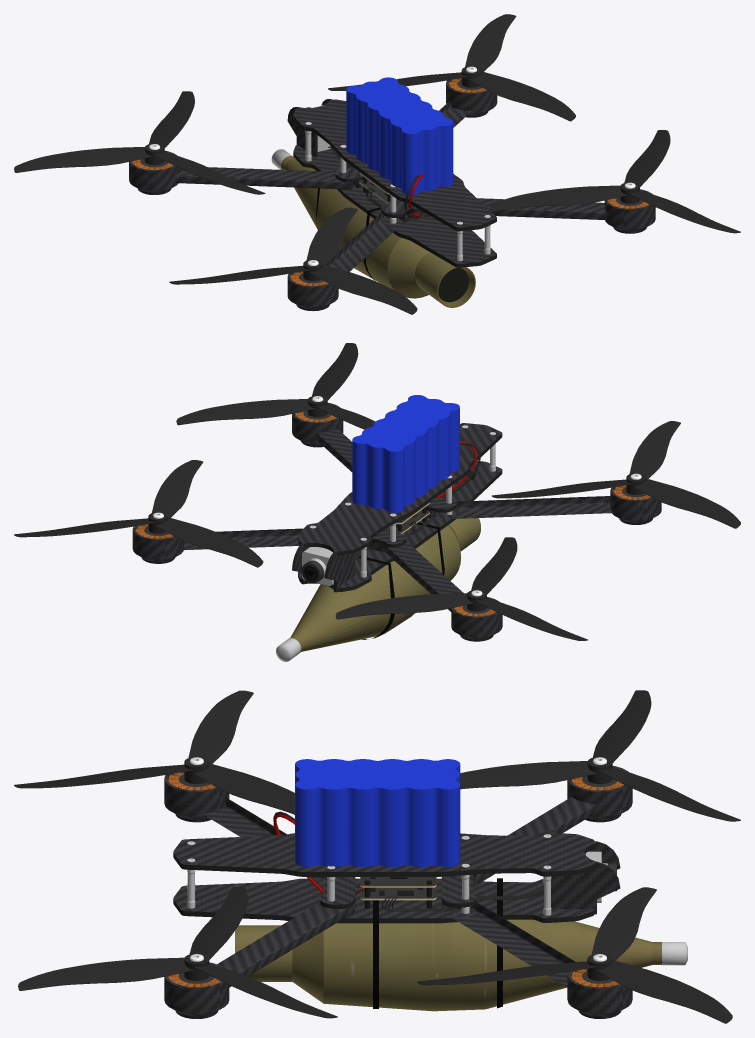
The model's file is fpv_drone.glb.
3 renders of one model, top to bottom at view 1: azimuth 30°, elevation 25°; view 2: azimuth 150°, elevation 25°; view 3: azimuth 270°, elevation 25°, orthographic. The views are drawn at different scales.
Parts seen in each view (by area): view 1: object 4, object 2, object 6, object 10, object 9, object 7, object 8, Object_Material.003_0, object 5; view 2: object 4, object 2, object 6, object 9, object 7, object 8, object 10, Object_Material.003_0, object 3, object 5; view 3: object 4, object 6, object 2, object 10, object 8, object 9, Object_Material.003_0, object 7, object 5.
Part boxes in pixels (x1,y1,x2,y2): object 4: [129, 80, 655, 311]; object 2: [346, 77, 453, 194]; object 6: [281, 156, 475, 307]; object 10: [489, 130, 740, 233]; object 9: [14, 91, 265, 194]; object 7: [169, 207, 417, 314]; object 8: [328, 14, 575, 121]; Object_Material.003_0: [132, 66, 648, 285]; object 5: [305, 122, 490, 261]; object 4: [132, 402, 661, 641]; object 2: [352, 395, 459, 512]; object 6: [289, 518, 480, 652]; object 9: [335, 537, 587, 640]; object 7: [492, 421, 740, 528]; object 8: [14, 460, 263, 567]; object 10: [176, 343, 375, 429]; Object_Material.003_0: [135, 396, 651, 661]; object 3: [301, 547, 345, 585]; object 5: [310, 425, 495, 577]; object 4: [164, 766, 632, 1018]; object 6: [235, 919, 661, 1011]; object 2: [295, 759, 460, 866]; object 10: [18, 887, 337, 1018]; object 8: [417, 887, 732, 1023]; object 9: [460, 690, 740, 821]; Object_Material.003_0: [167, 757, 687, 1008]; object 7: [14, 690, 294, 814]; object 5: [187, 834, 551, 915].
Size of the model in its own units: 10.76 by 3.49 by 9.94.
Materials: 5 (4 with a texture image).
